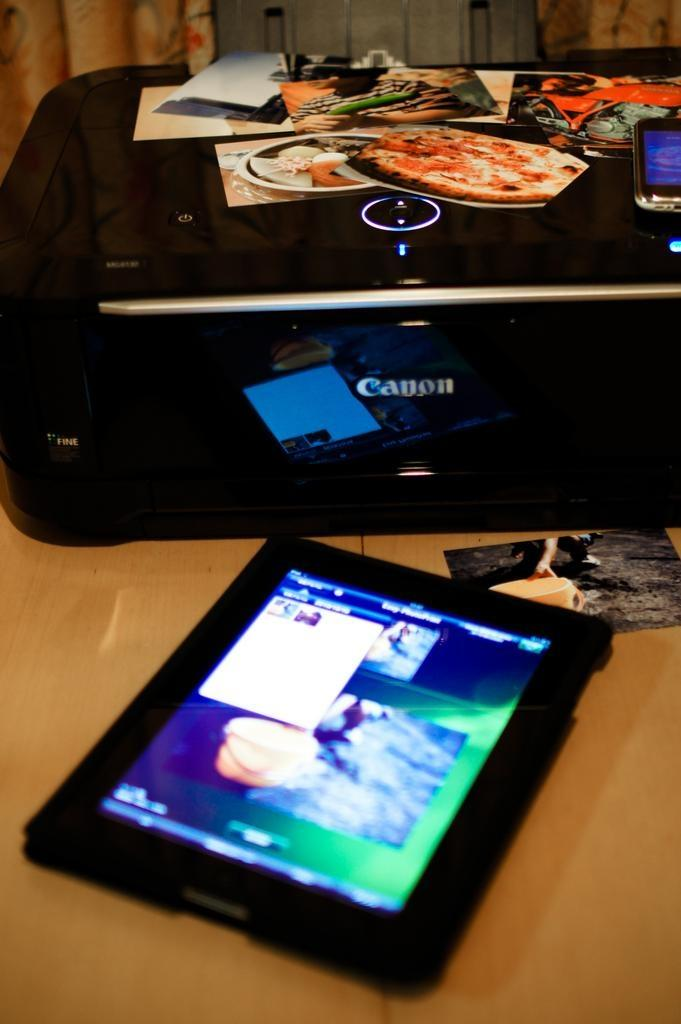Printer: (0, 43, 680, 548)
